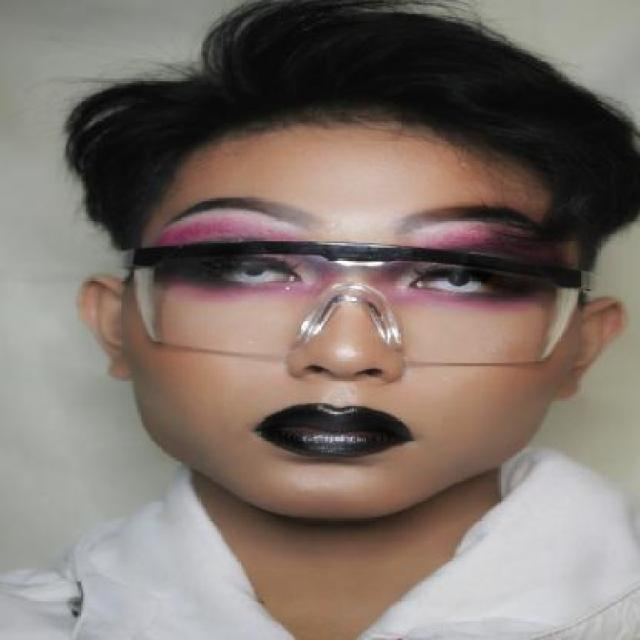face_nomask: (174, 237, 532, 480)
glasses: (110, 238, 602, 364)
head_nohelmet: (89, 8, 640, 204)
